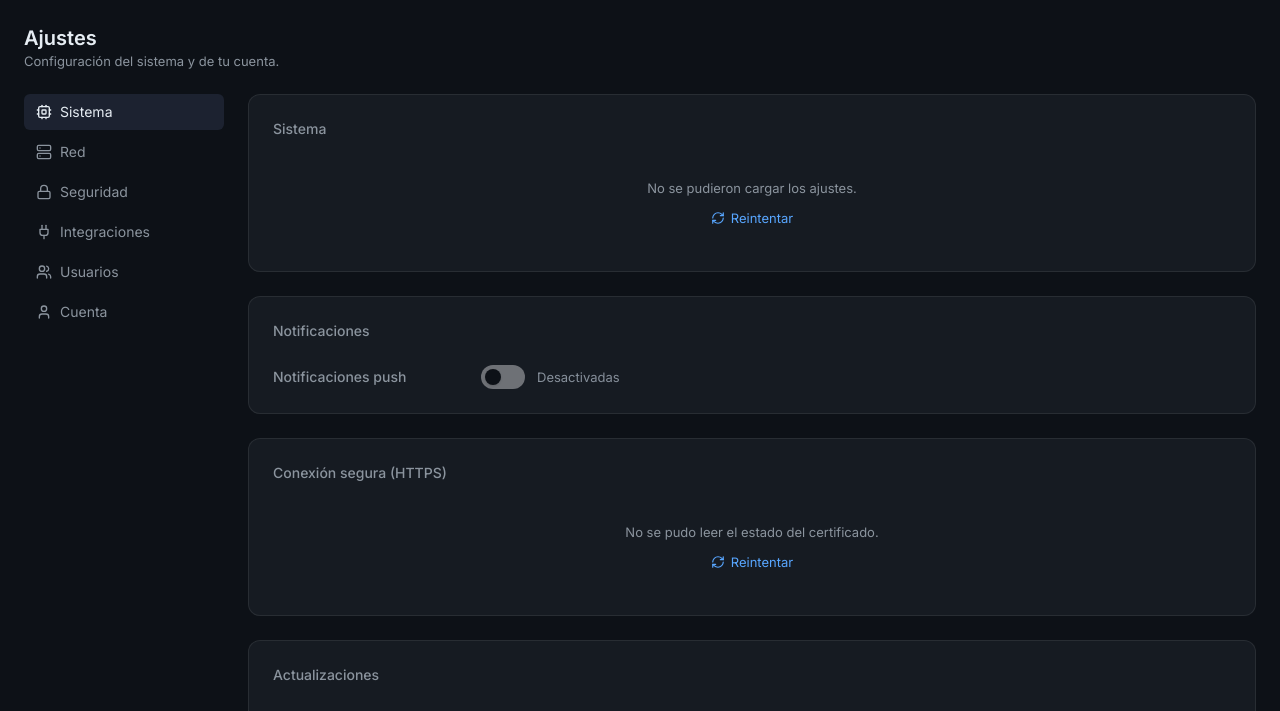
Test case: SettingsPage › con /system/settings caído o pendiente › Seguridad conserva Sesiones activas y avisa en lugar de los controles
Step 1. Click the button "Seguridad" → coordinates (124, 192), box [24,174,224,210]
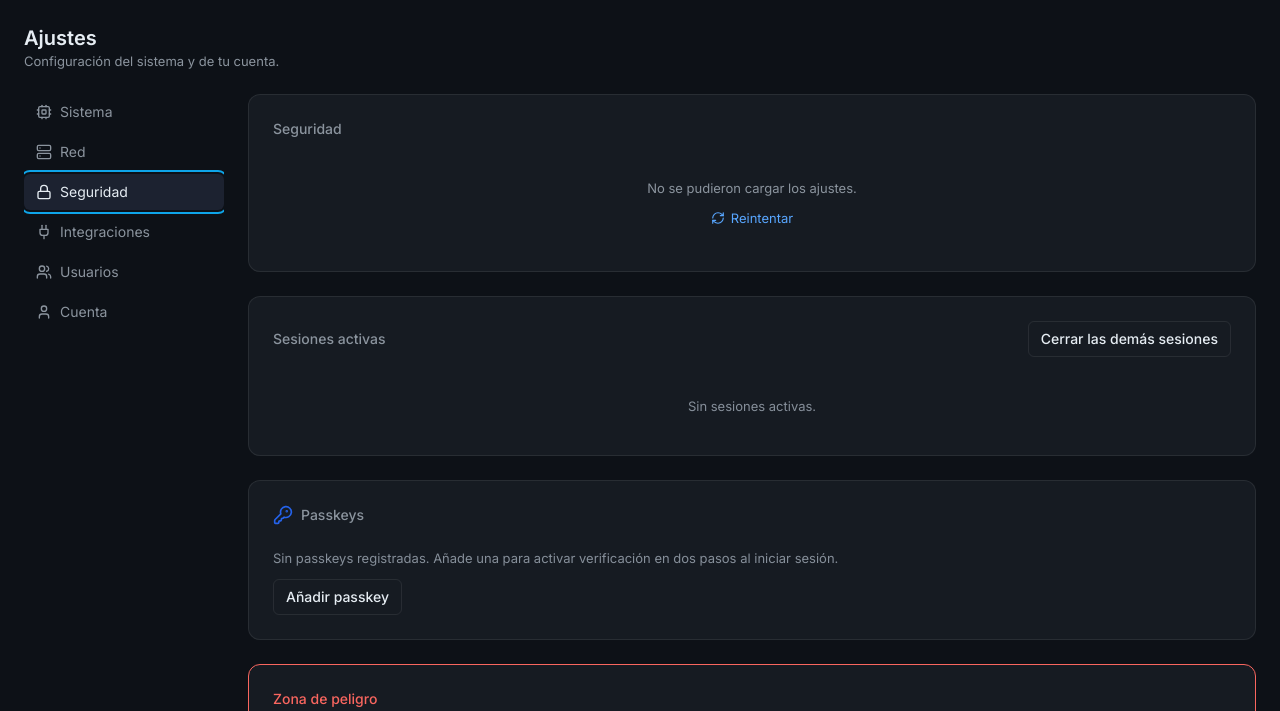
Expected: the text "No se pudieron cargar los ajustes." is shown, [647,179,857,197]
Expected: the heading "Sesiones activas" is shown, [273,329,386,349]
